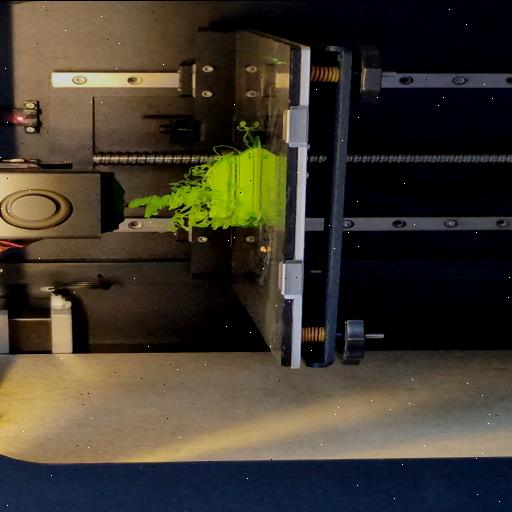spaghetti: (123, 160, 212, 228), (216, 215, 260, 228), (237, 118, 254, 144), (207, 144, 243, 153)
